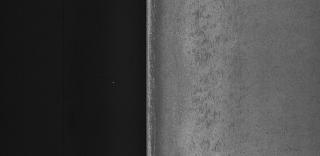silk spot: (182, 8, 240, 156)
